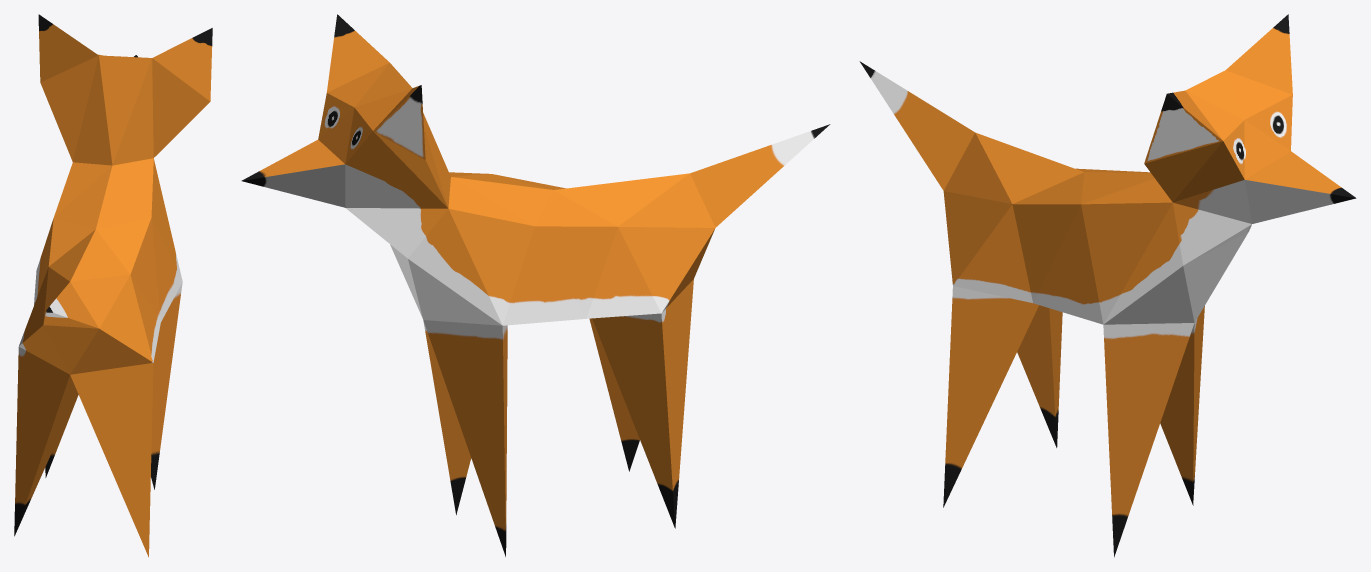
Rendered from fox.glb.
3 renders of one model, left to right at view 1: azimuth 30°, elevation 25°; view 2: azimuth 150°, elevation 25°; view 3: azimuth 270°, elevation 25°, orthographic. The views are drawn at different scales.
Visible parts, largest first — view 1: gesh; view 2: gesh; view 3: gesh.
Part boxes in pixels (x1,y1,x2,y2): gesh: [14, 14, 212, 557]; gesh: [241, 14, 830, 556]; gesh: [859, 14, 1356, 557].
Size of the model in its own units: 0.694 by 0.9648 by 0.8387.
Materials: 31 (31 with a texture image).
